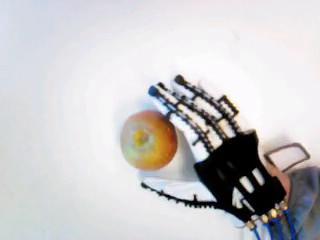apple: (122, 109, 178, 175)
hand: (139, 73, 288, 224)
